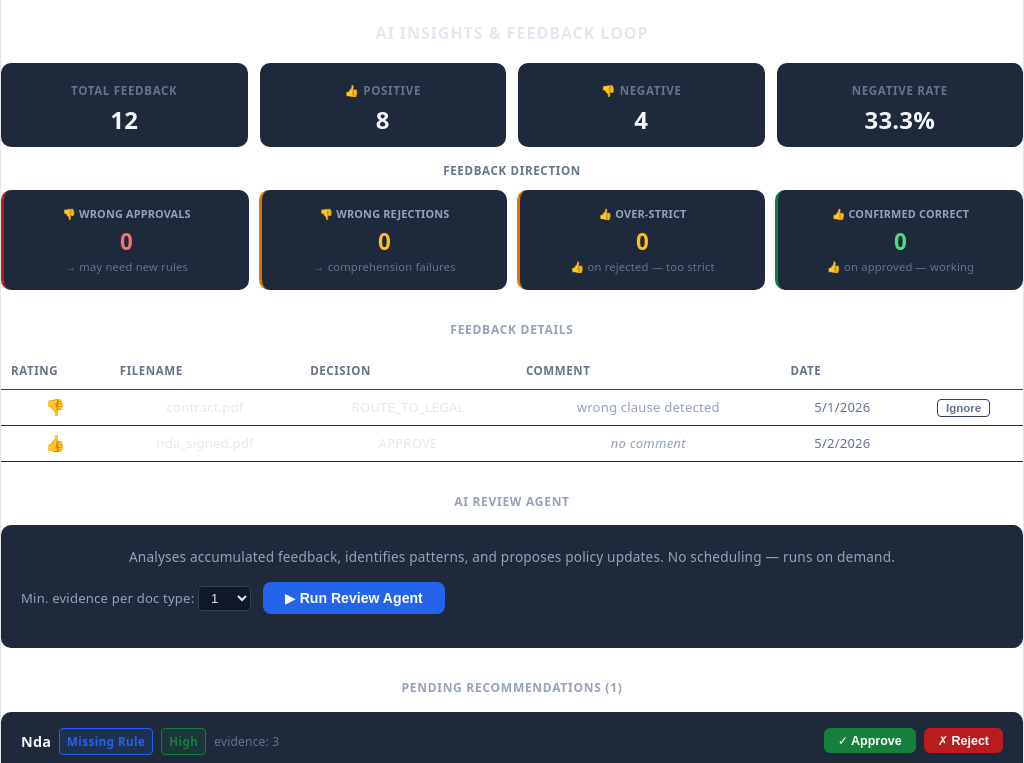
InsightsDashboard — approve button › shows success message after approve
Click the button "✓ Approve" at (870, 740), box [824, 728, 916, 752]
(page scrolled)
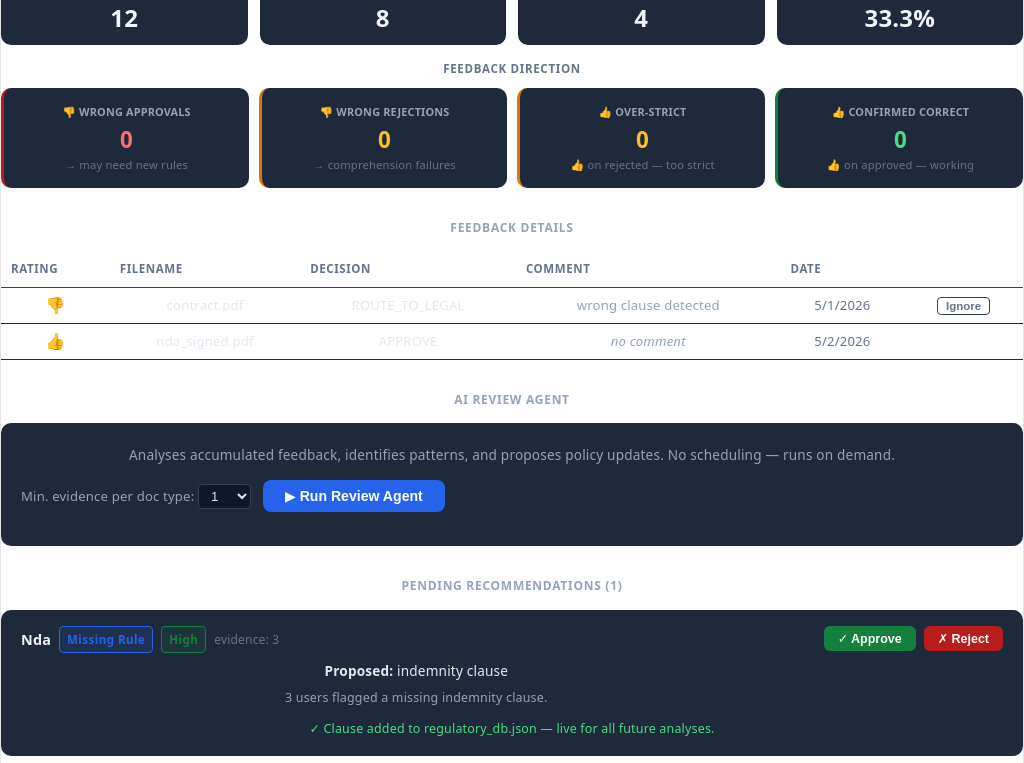
Result: the text "Clause added to regulatory_db" is shown at [309, 720, 714, 737]
